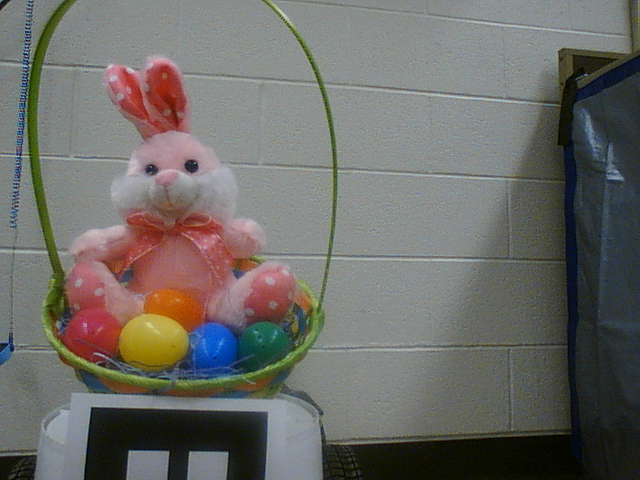bunny: (28, 1, 347, 409)
